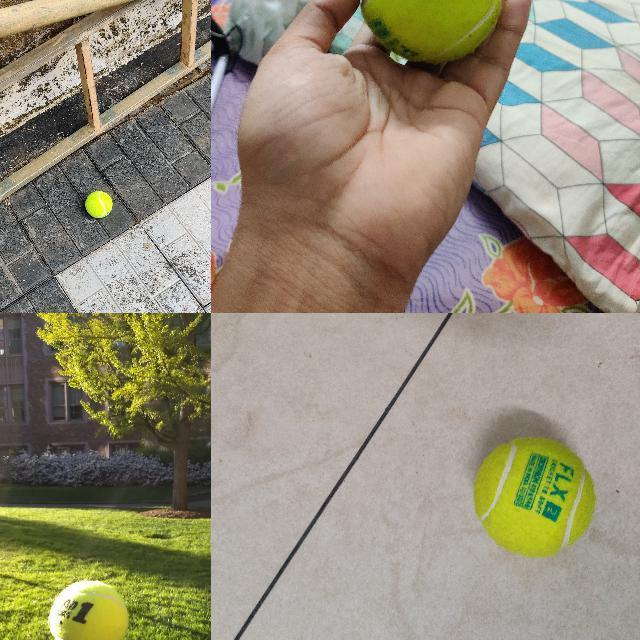tennis-ball: (473, 437, 595, 558), (358, 0, 503, 65), (47, 579, 130, 639), (84, 190, 112, 218)
